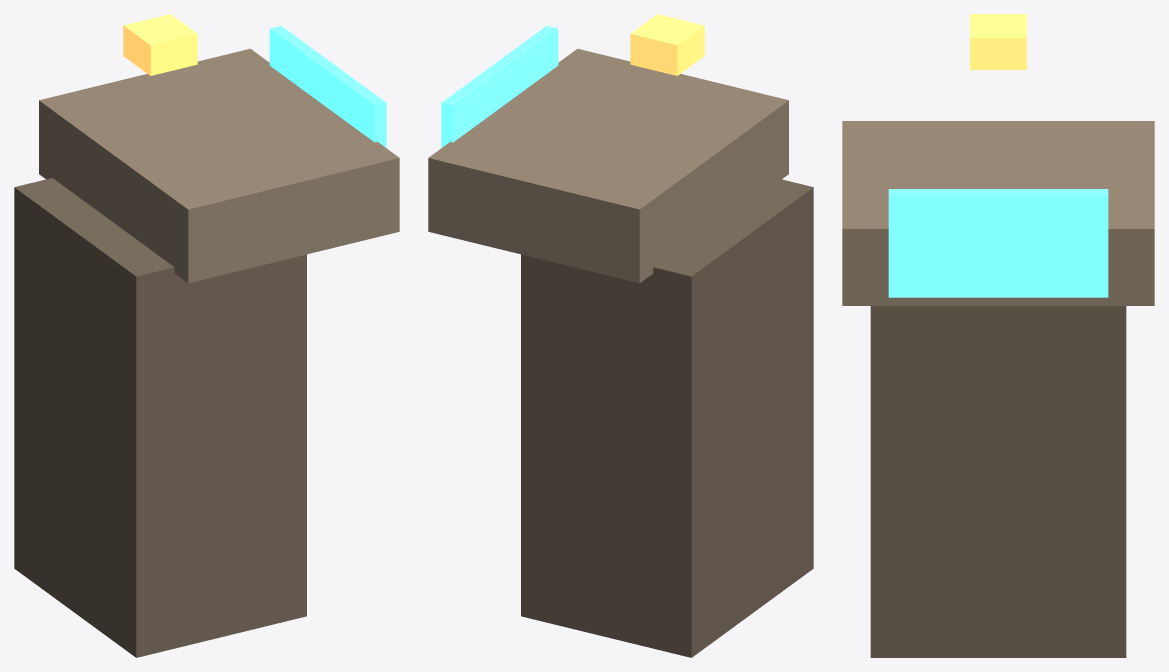
File: refinery-terminal-lod2.glb
3 renders of one model, left to right at view 1: azimuth 30°, elevation 25°; view 2: azimuth 150°, elevation 25°; view 3: azimuth 270°, elevation 25°, orthographic. The views are drawn at different scales.
Visible parts, largest first — view 1: refinery-terminal-pedestal, refinery-terminal-console, refinery-terminal-screen, objective-beacon-mount; view 2: refinery-terminal-pedestal, refinery-terminal-console, refinery-terminal-screen, objective-beacon-mount; view 3: refinery-terminal-pedestal, refinery-terminal-console, refinery-terminal-screen, objective-beacon-mount.
Boxes of the visible parts, bbox=[...] form: refinery-terminal-pedestal: bbox=[14, 178, 306, 657]; refinery-terminal-console: bbox=[39, 48, 399, 283]; refinery-terminal-screen: bbox=[269, 26, 386, 147]; objective-beacon-mount: bbox=[123, 14, 197, 75]; refinery-terminal-pedestal: bbox=[521, 178, 813, 657]; refinery-terminal-console: bbox=[428, 48, 788, 283]; refinery-terminal-screen: bbox=[441, 26, 558, 147]; objective-beacon-mount: bbox=[630, 14, 704, 75]; refinery-terminal-pedestal: bbox=[870, 306, 1126, 657]; refinery-terminal-console: bbox=[842, 121, 1154, 305]; refinery-terminal-screen: bbox=[888, 189, 1108, 297]; objective-beacon-mount: bbox=[970, 14, 1026, 69].
Bounding box in the file's own units: 0.88 × 1.83 × 0.88.
